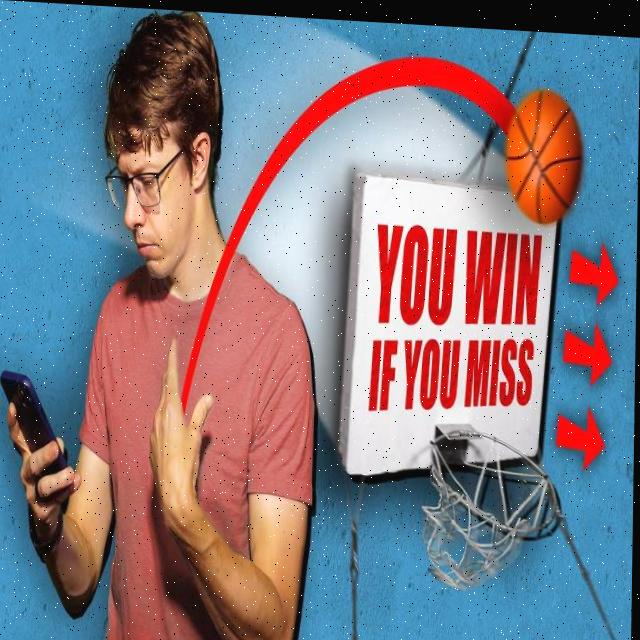Basketball: (505, 88, 584, 227)
hoop: (420, 426, 558, 597)
